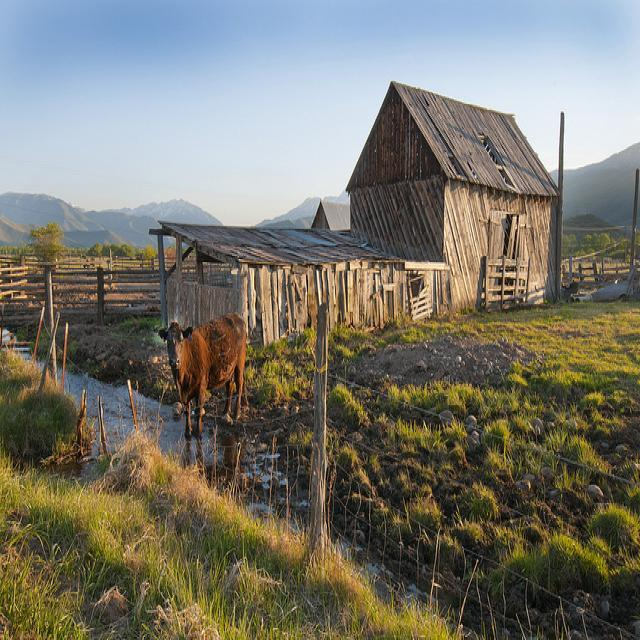cow: (157, 310, 247, 435)
